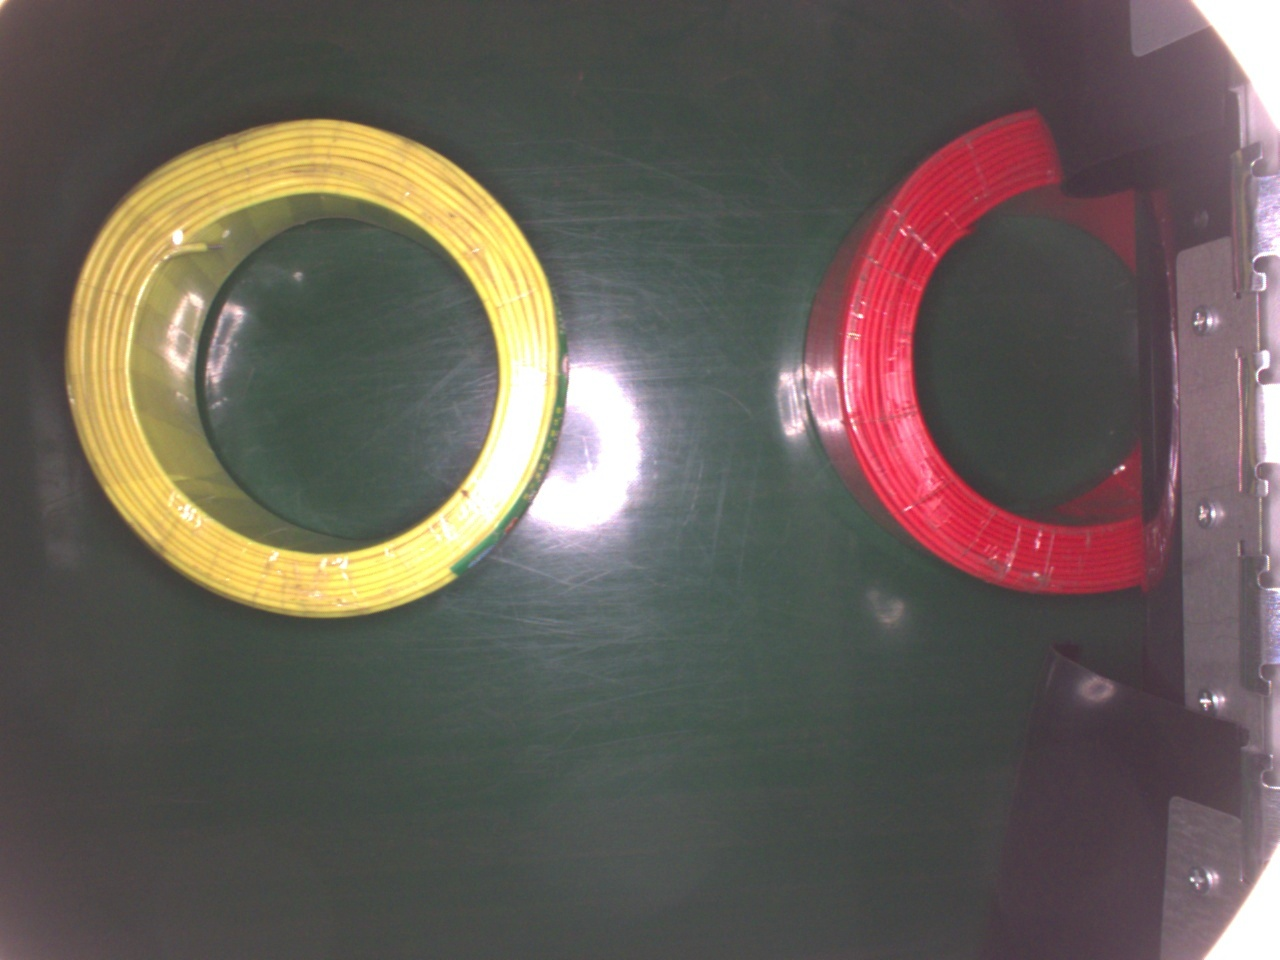red: (807, 100, 1162, 593)
yellow: (62, 116, 564, 623)
